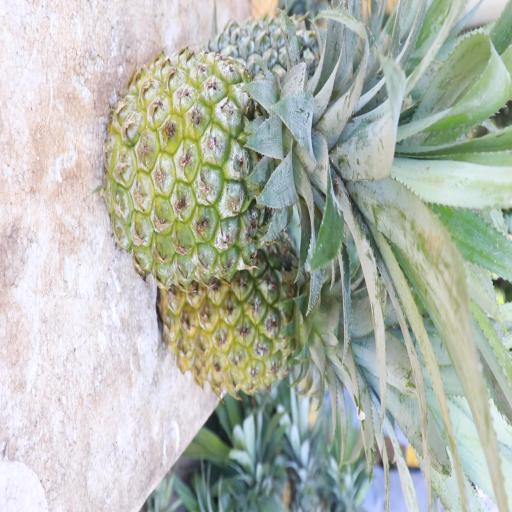------------------------------: (99, 40, 401, 290)
Pineapple - v8 v1: (153, 210, 388, 400)
